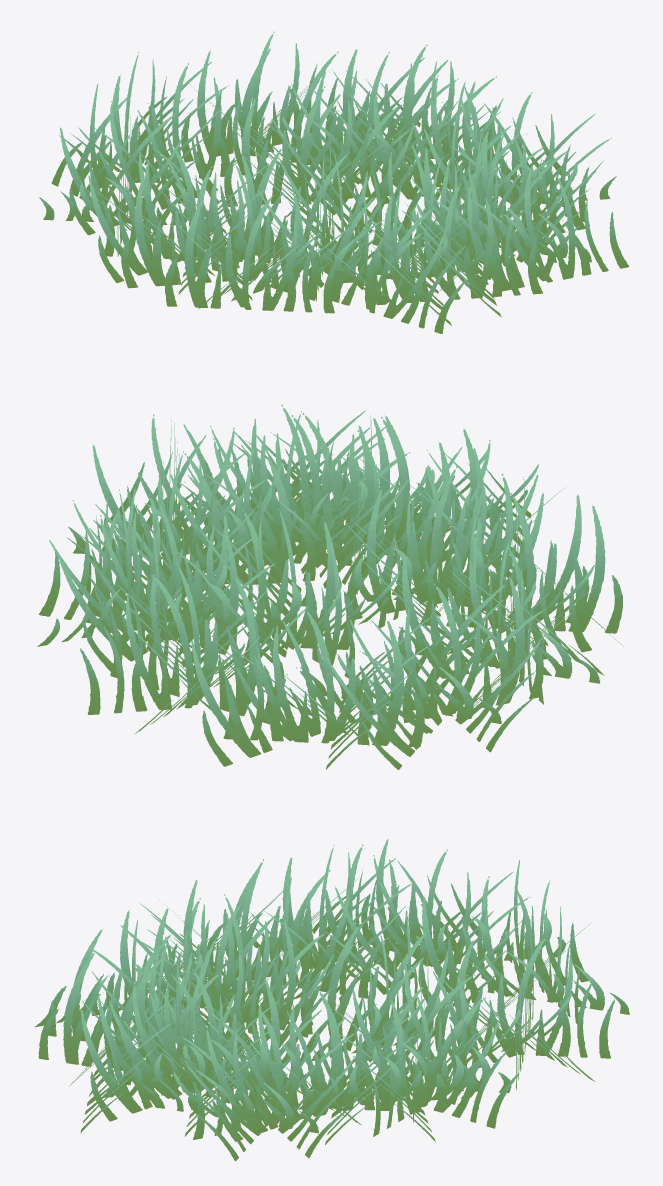
The model's file is V_Grass2.fbx.
3 views of the same model, one above another, from view 1: azimuth 30°, elevation 25°; view 2: azimuth 150°, elevation 25°; view 3: azimuth 270°, elevation 25° (orthographic). The views are drawn at different scales.
Parts seen in each view (by area): view 1: TW101_grass12; view 2: TW101_grass12; view 3: TW101_grass12.
Boxes of the visible parts, bbox=[...] form: TW101_grass12: bbox=[39, 31, 629, 333]; TW101_grass12: bbox=[37, 404, 623, 769]; TW101_grass12: bbox=[35, 839, 629, 1161].
Bounding box in the file's own units: 1.44 × 0.3087 × 1.46.
